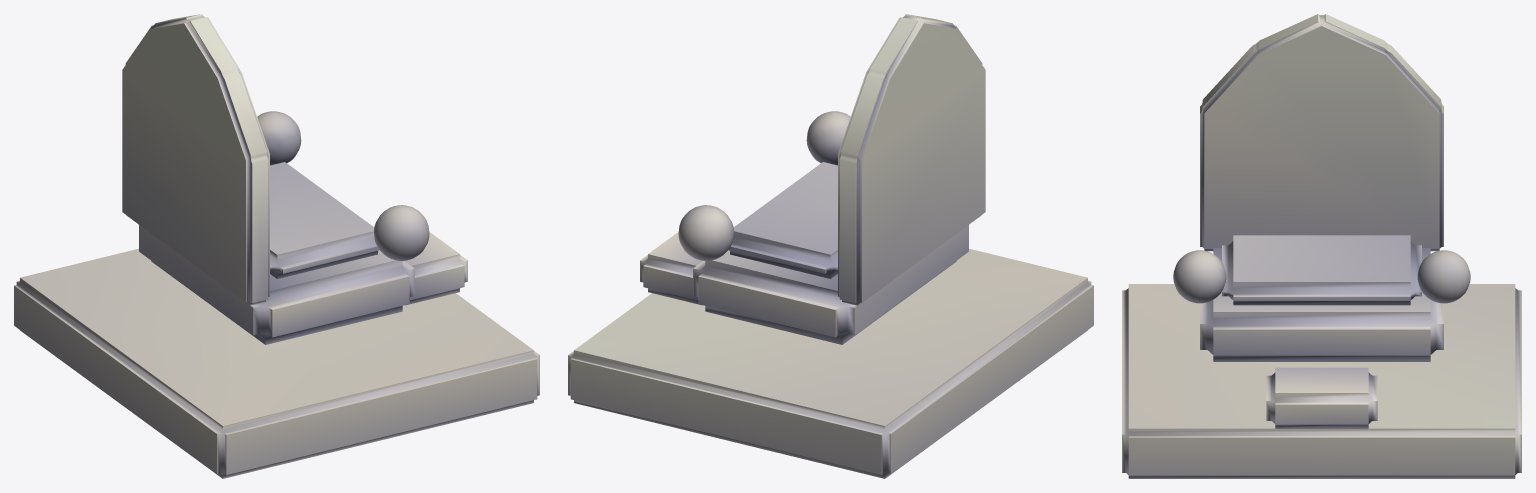
File: throne.glb
3 renders of one model, left to right at view 1: azimuth 30°, elevation 25°; view 2: azimuth 150°, elevation 25°; view 3: azimuth 270°, elevation 25°, orthographic. The views are drawn at different scales.
Parts seen in each view (by area): view 1: body; view 2: body; view 3: body.
Boxes of the visible parts, x1=… form: body: x1=14, y1=14, x2=539, y2=478; body: x1=568, y1=14, x2=1093, y2=478; body: x1=1122, y1=14, x2=1521, y2=478.
Bounding box in the file's own units: 1.62 × 1.75 × 1.8.
